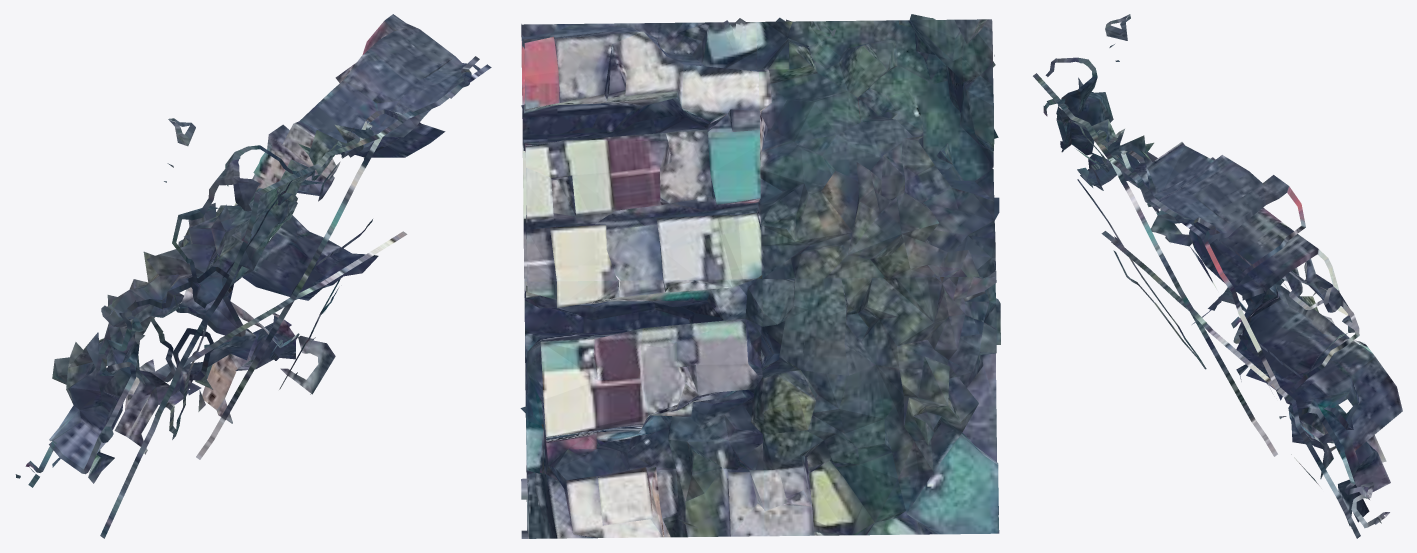
3 renders of one model, left to right at view 1: azimuth 30°, elevation 25°; view 2: azimuth 150°, elevation 25°; view 3: azimuth 270°, elevation 25°, orthographic. The views are drawn at different scales.
Size of the model in its own units: 87.42 by 80.46 by 67.31.
2 materials, 2 textured.
